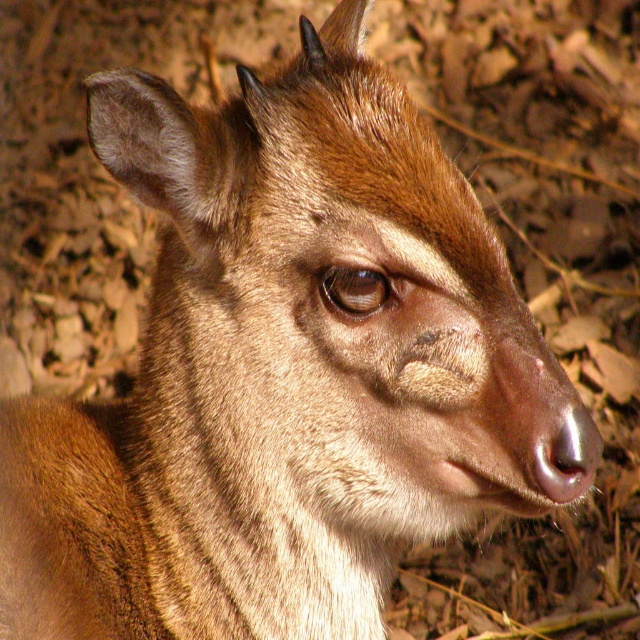Deer: (0, 0, 606, 639)
